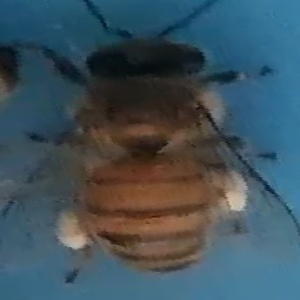bee: (48, 7, 290, 292)
